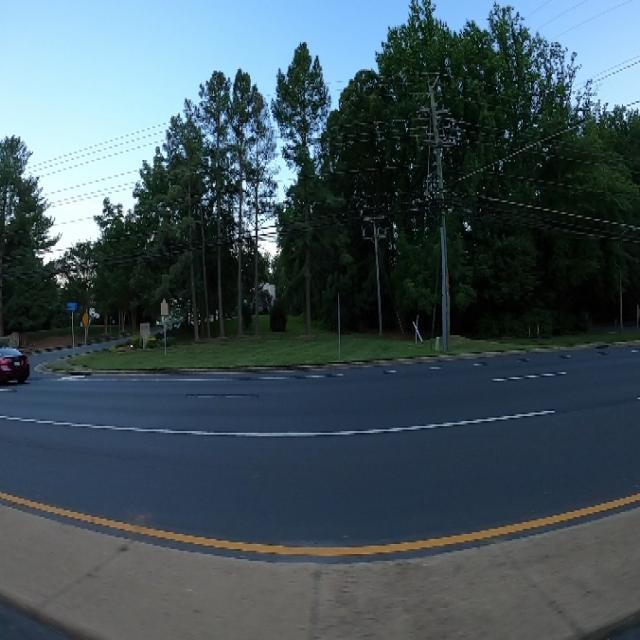car: (0, 329, 34, 394)
